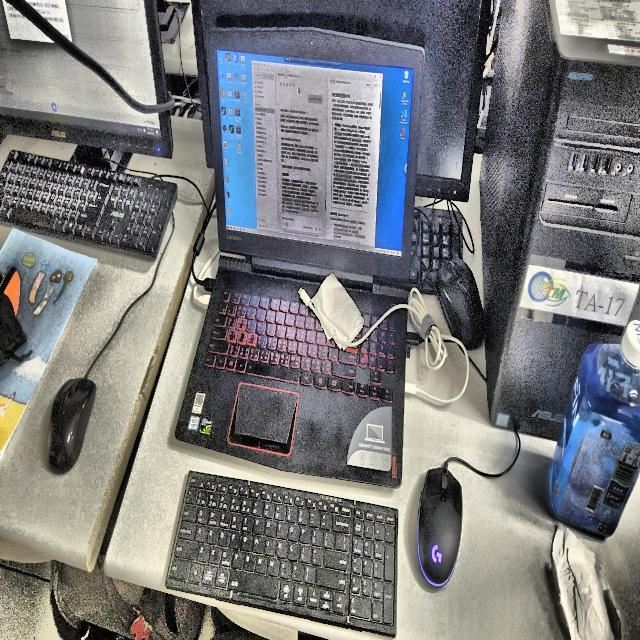Keyboard: (167, 472, 397, 636), (0, 150, 177, 261), (410, 203, 464, 294)
Laptop: (175, 2, 422, 488)
MOUSE: (418, 464, 462, 582), (435, 259, 484, 355), (47, 378, 96, 474)
Screen: (211, 0, 489, 209), (0, 1, 175, 168), (35, 0, 168, 106)
